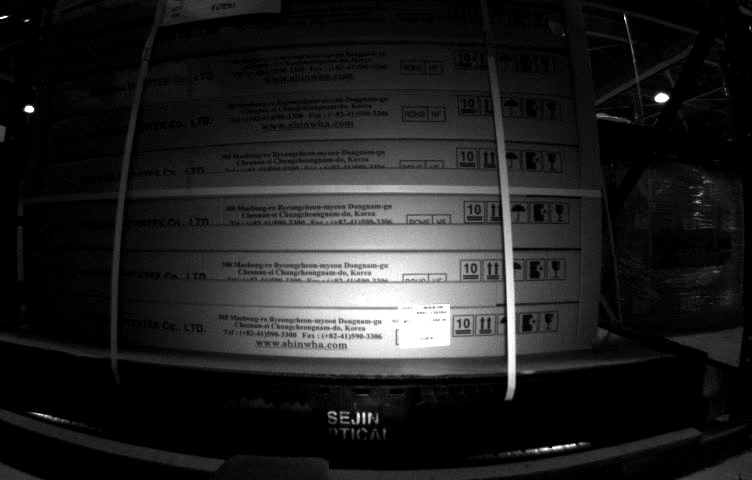True Barcode: (398, 304, 451, 348)
